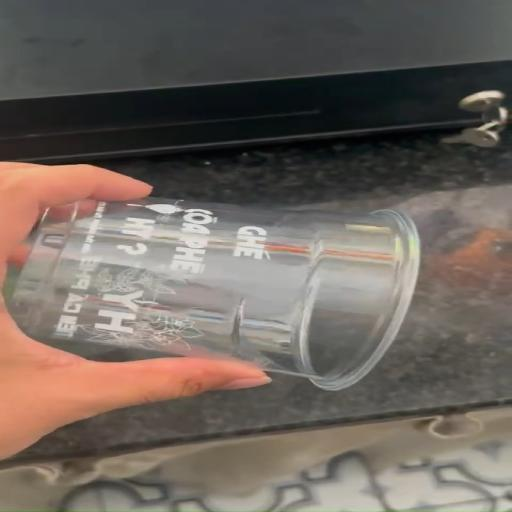ly_nhua: (7, 197, 419, 390)
